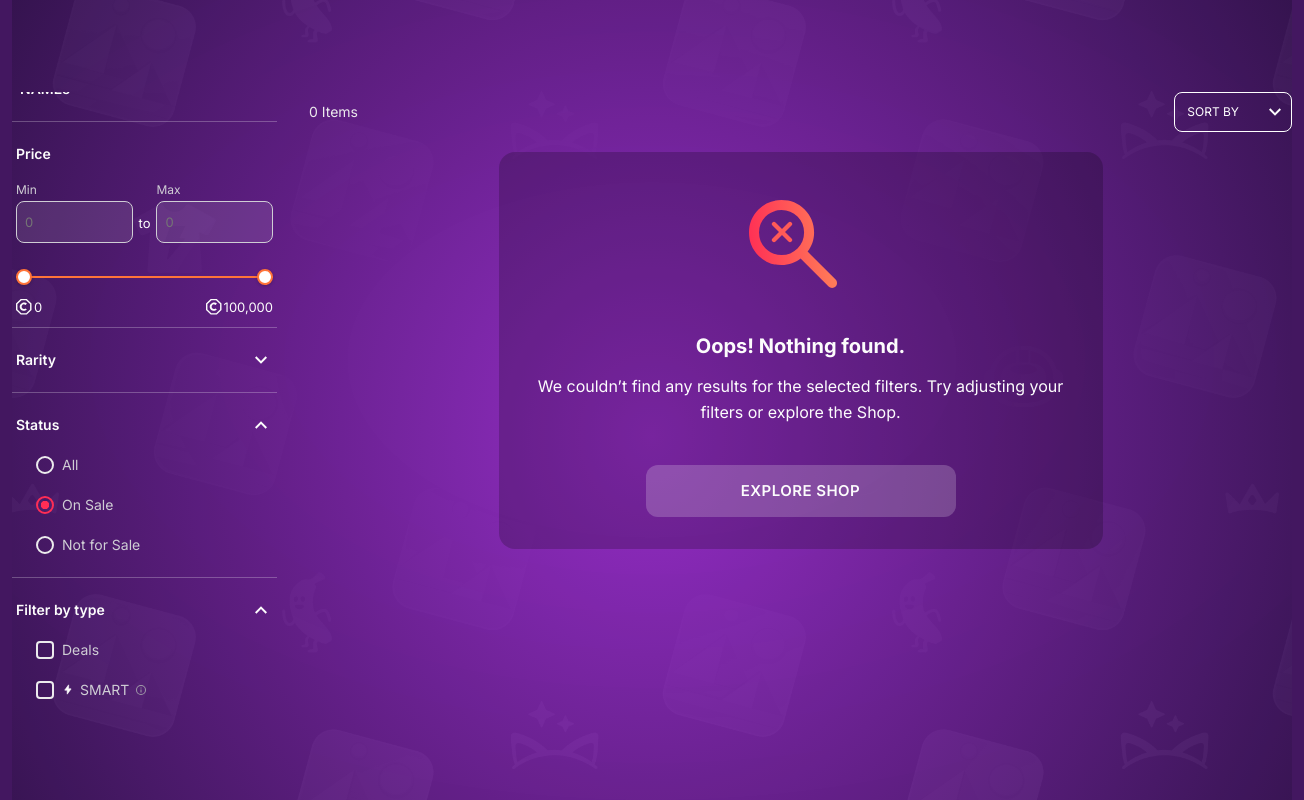
Test: Assets — the Deals filter › and the buyer turns it on › should spell the filter out in the URL, so the grid survives a refresh or a shared link
(page scrolled)
Click the checkbox with test id "deals-toggle" at {"x": 45, "y": 650}, box left=36, top=641, right=54, bottom=659
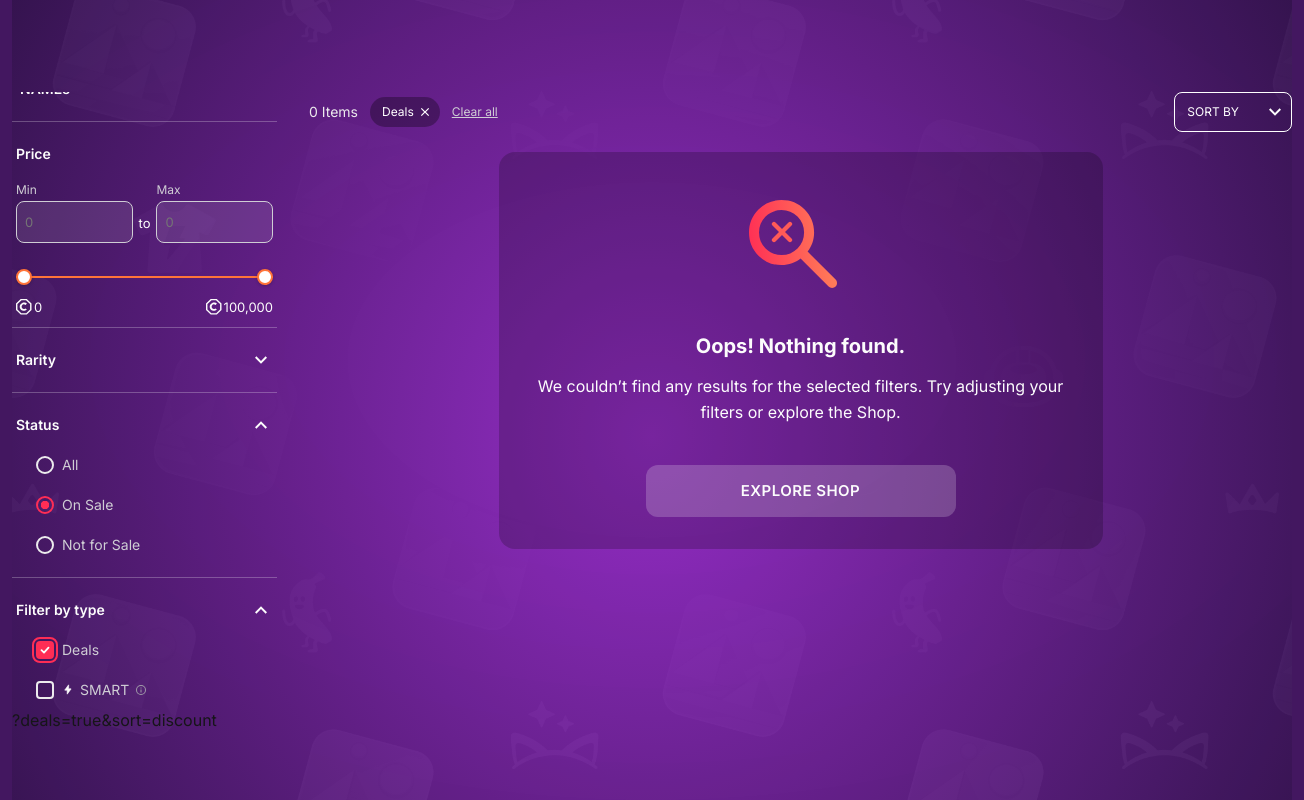
Check: the text with test id "location-search" shows "deals=true", box left=12, top=710, right=217, bottom=730
